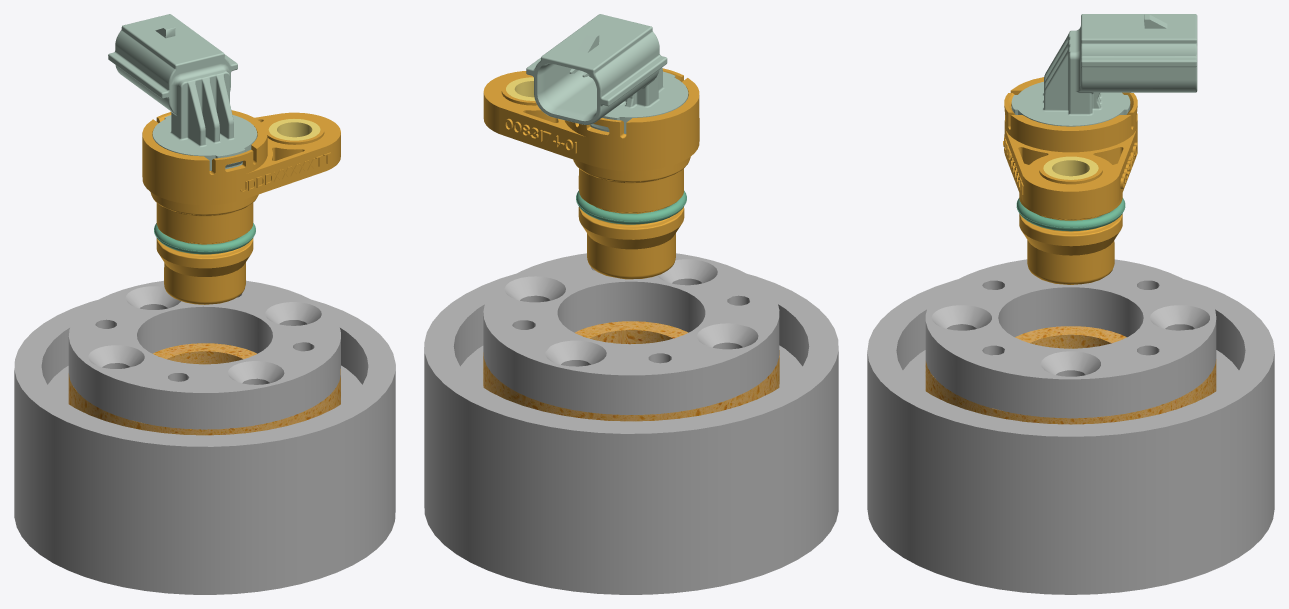
Rendered from oiling-assembly.glb.
3 views of the same model, side by side, from view 1: azimuth 30°, elevation 25°; view 2: azimuth 150°, elevation 25°; view 3: azimuth 270°, elevation 25° (orthographic). The views are drawn at different scales.
Parts seen in each view (by area): view 1: Speed Sensor Stand-1, Sensor-1, Speed Sensor Sponge Press Outer-1, Sponge Outer-1; view 2: Speed Sensor Stand-1, Speed Sensor Sponge Press Outer-1, Sensor-1, Sponge Outer-1; view 3: Speed Sensor Stand-1, Speed Sensor Sponge Press Outer-1, Sensor-1, Sponge Outer-1.
Part boxes in pixels (left/top/right/bottom): Speed Sensor Stand-1: left=14, top=300, right=395, bottom=594; Sensor-1: left=108, top=14, right=340, bottom=304; Speed Sensor Sponge Press Outer-1: left=68, top=280, right=340, bottom=429; Sponge Outer-1: left=68, top=343, right=340, bottom=435; Speed Sensor Stand-1: left=424, top=274, right=838, bottom=594; Speed Sensor Sponge Press Outer-1: left=483, top=253, right=779, bottom=414; Sensor-1: left=483, top=14, right=699, bottom=279; Sponge Outer-1: left=483, top=321, right=779, bottom=421; Speed Sensor Stand-1: left=867, top=279, right=1274, bottom=594; Speed Sensor Sponge Press Outer-1: left=925, top=259, right=1216, bottom=418; Sensor-1: left=1003, top=14, right=1197, bottom=284; Sponge Outer-1: left=925, top=326, right=1216, bottom=424.
Bounding box in the file's own units: 0.07 × 0.0933 × 0.07.
Materials: 6 (1 with a texture image).
